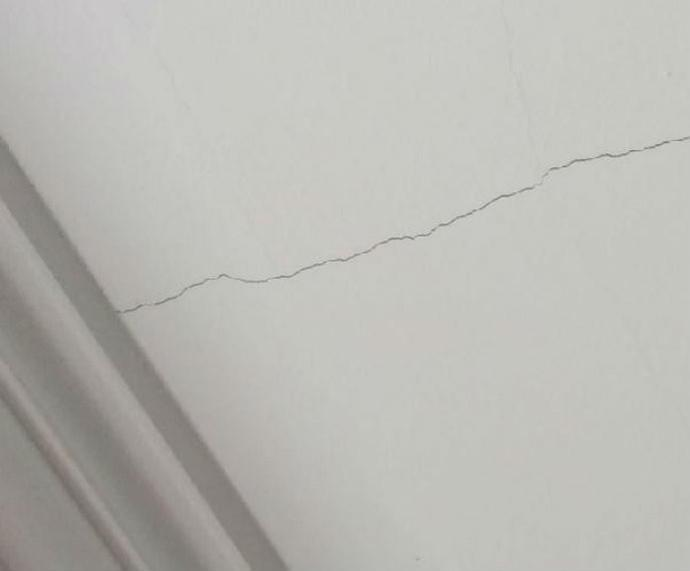crack: (117, 137, 690, 317)
